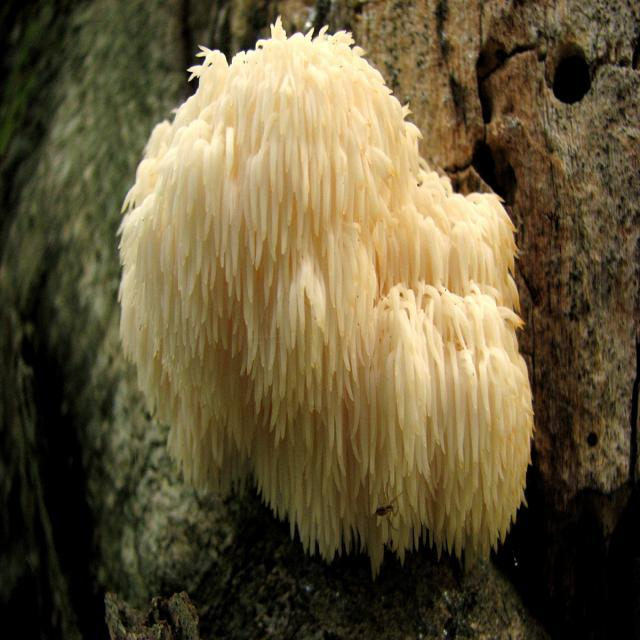Hericium erinaceus: (122, 28, 532, 567)
